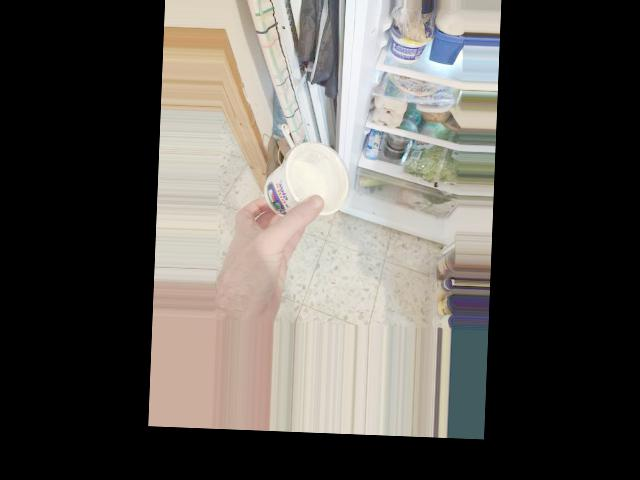cotage: (259, 141, 341, 223)
